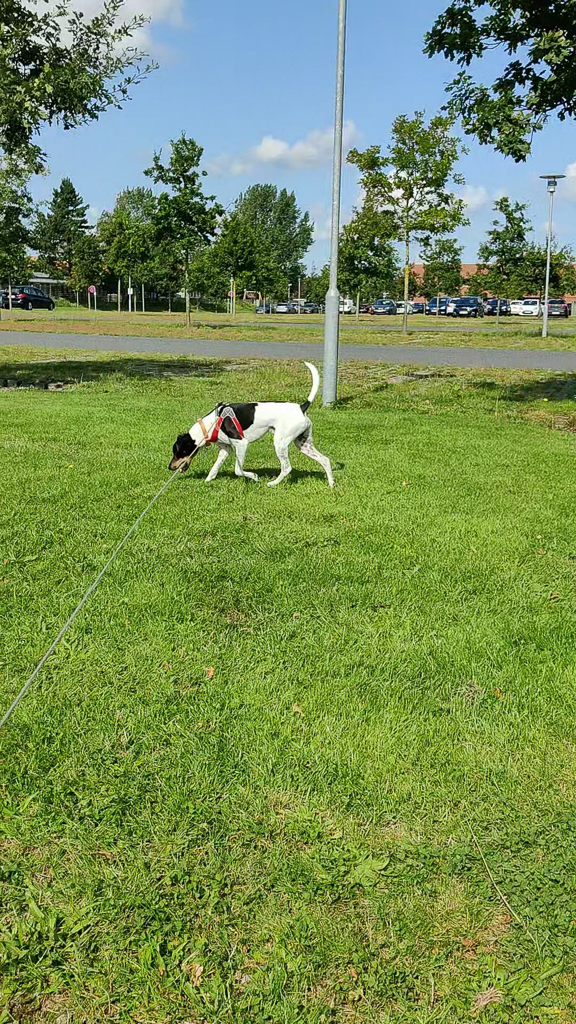Dog: (160, 354, 342, 498)
